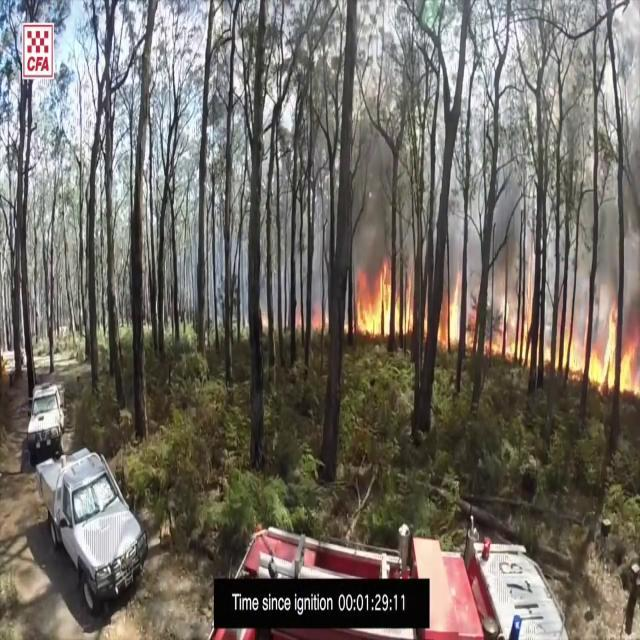Fire: (567, 290, 640, 404), (348, 246, 414, 344)
Smoke: (336, 110, 432, 274), (577, 174, 640, 330)
